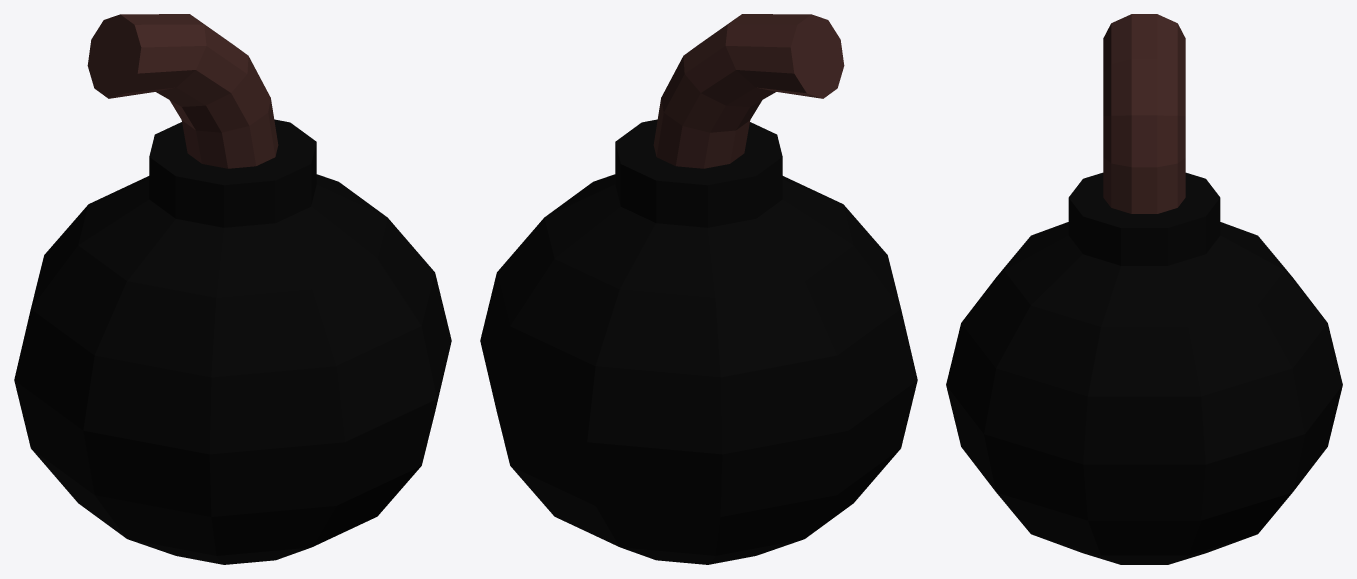
The model's file is bombastic.fbx.
3 renders of one model, left to right at view 1: azimuth 30°, elevation 25°; view 2: azimuth 150°, elevation 25°; view 3: azimuth 270°, elevation 25°, orthographic. The views are drawn at different scales.
Visible parts, largest first — view 1: Bomba; view 2: Bomba; view 3: Bomba.
Part boxes in pixels (x1,y1,x2,y2): Bomba: (14,14,451,564); Bomba: (480,14,917,564); Bomba: (946,14,1342,564).
Bounding box in the file's own units: 28.53 × 40.62 × 30.
